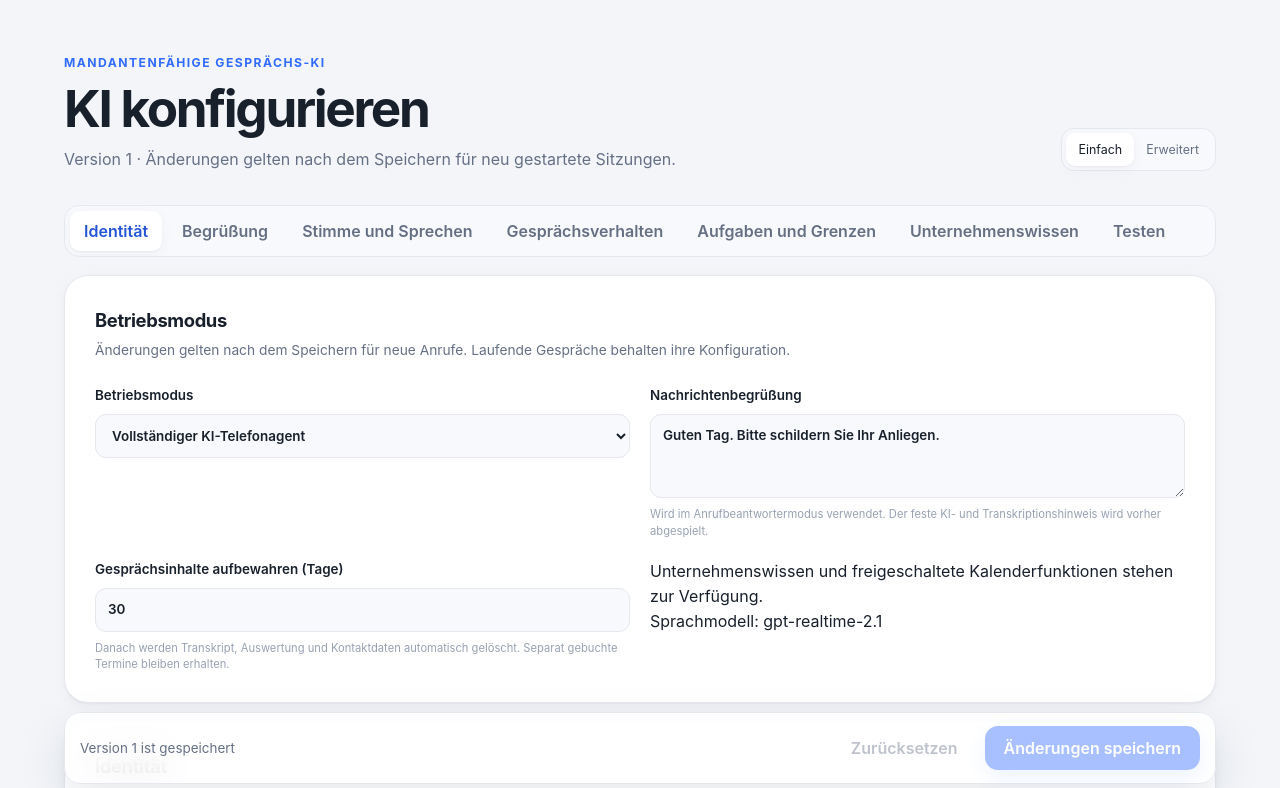
Test: KI-Einstellungen › lädt alle Bereiche und zeigt die wirksame Testkonfiguration
The image size is (1280, 788).
Check: the heading "KI konfigurieren" is shown, box [64, 77, 428, 139]
Click the tab "Testen" at (1139, 231), box [1099, 211, 1179, 251]
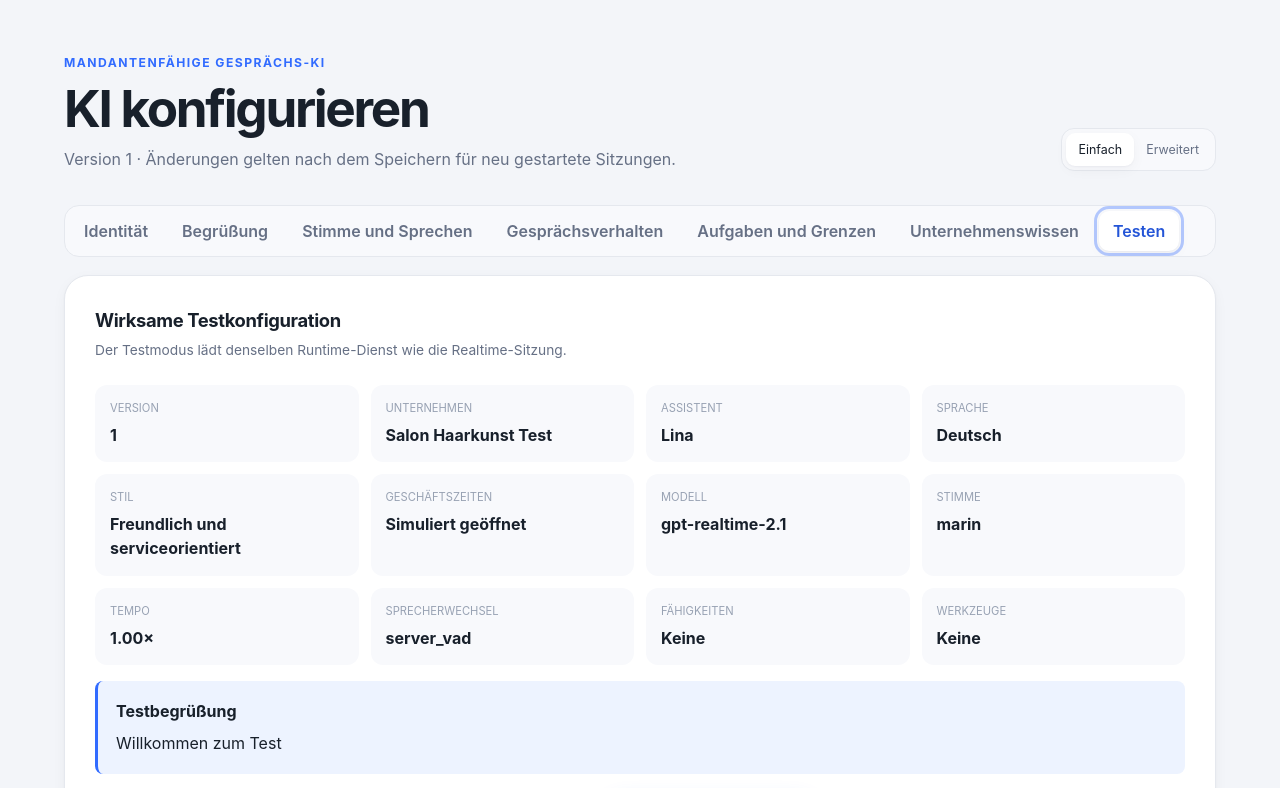
Check: the text "gpt-realtime-2.1" is shown, box [661, 514, 786, 534]
Check: the text "Willkommen zum Test" is shown, box [116, 733, 282, 753]
Check: the text "Keine" is shown 2 times, box [661, 628, 705, 648]; [936, 628, 981, 648]
